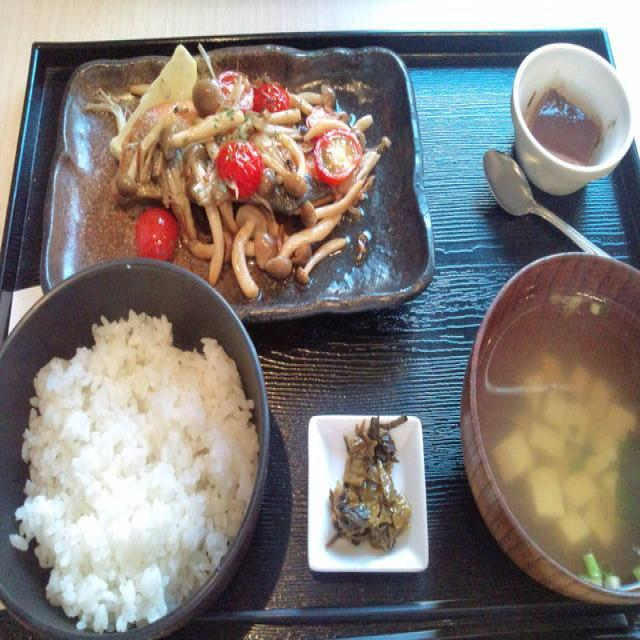Rice: (15, 312, 261, 636)
